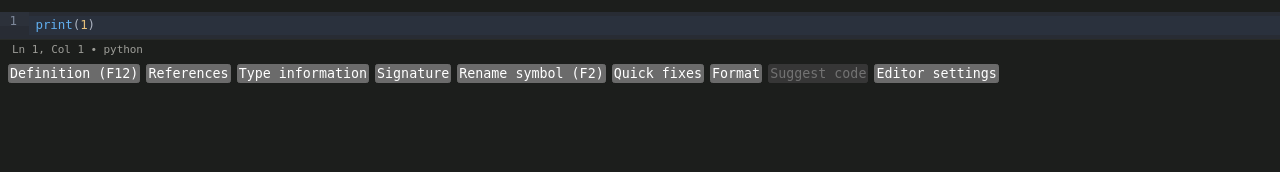
Test: unsupported semantic requests explain the available language support
Click the button "Definition (F12)" at (74, 74), box [8,64,140,83]
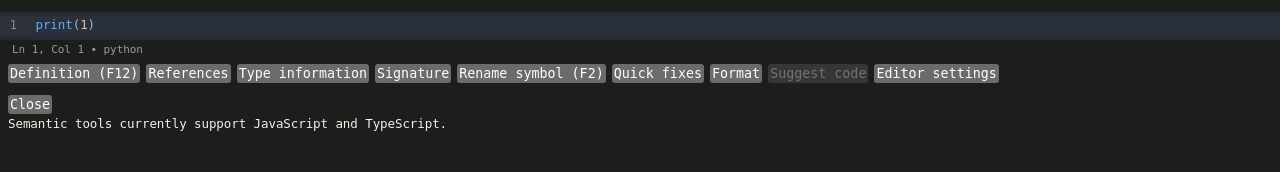
Check: the message shows "JavaScript and TypeScript", box [8,116,447,131]
